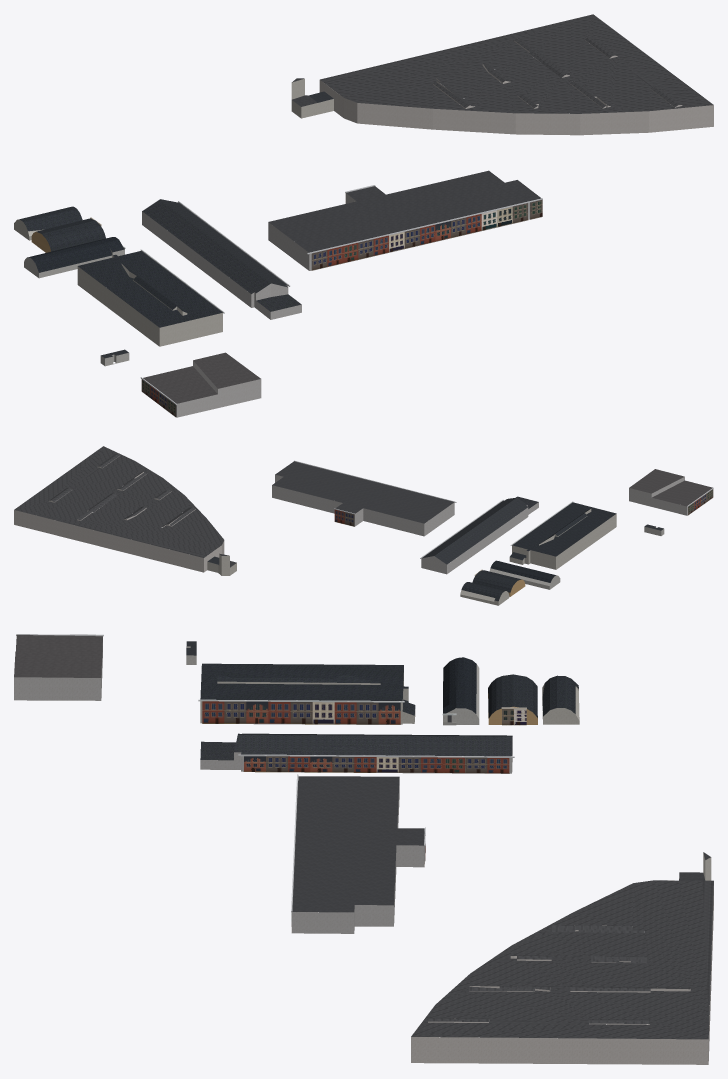
The picture shows the model from 3 angles, top to bottom: view 1: azimuth 30°, elevation 25°; view 2: azimuth 150°, elevation 25°; view 3: azimuth 270°, elevation 25°; orthographic projection. The views are drawn at different scales.
Parts seen in each view (by area): view 1: bldg_6004321672_roof, bldg_6004321651_roof, bldg_6004321672, bldg_6004321621_roof, bldg_6008399626_roof, bldg_6004321651_facade1, bldg_6004321621, bldg_6004321615_roof, bldg_6008399626, bldg_6004321615, bldg_6004321619_roof, bldg_6000001043_roof (+2 smaller); view 2: bldg_6004321672_roof, bldg_6004321651_roof, bldg_6004321672, bldg_6004321621_roof, bldg_6004321651, bldg_6008399626_roof, bldg_6004321621, bldg_6004321615_roof, bldg_6008399626, bldg_6004321615, bldg_6000001043_roof, bldg_6004321619_roof (+6 smaller); view 3: bldg_6004321672_roof, bldg_6004321651_roof, bldg_6004321672, bldg_6004321621_roof, bldg_6008399626_roof, bldg_6004321621_facade1, bldg_6008399626_facade0, bldg_6004321615_roof, bldg_6004321651, bldg_6004321615, bldg_6004321619_roof, bldg_6000001043_roof (+3 smaller).
Part boxes in pixels (box(x1,y1,x2,y2)): bldg_6004321672_roof: box(320, 14, 713, 113); bldg_6004321651_roof: box(269, 170, 541, 252); bldg_6004321672: box(319, 40, 713, 135); bldg_6004321621_roof: box(78, 251, 222, 327); bldg_6008399626_roof: box(142, 199, 301, 311); bldg_6004321651_facade1: box(307, 201, 532, 270); bldg_6004321621: box(77, 255, 222, 346); bldg_6004321615_roof: box(143, 352, 260, 403); bldg_6008399626: box(142, 211, 301, 319); bldg_6004321615: box(176, 361, 261, 417); bldg_6004321619_roof: box(27, 237, 124, 272); bldg_6000001043_roof: box(36, 218, 105, 251); bldg_6004321672_roof: box(14, 446, 224, 557); bldg_6004321651_roof: box(272, 461, 454, 523); bldg_6004321672: box(14, 456, 224, 572); bldg_6004321621_roof: box(510, 502, 616, 560); bldg_6004321651: box(272, 474, 454, 536); bldg_6008399626_roof: box(422, 496, 538, 564); bldg_6004321621: box(509, 509, 616, 569); bldg_6004321615_roof: box(629, 469, 712, 506); bldg_6008399626: box(421, 502, 538, 574); bldg_6004321615: box(629, 476, 687, 515); bldg_6000001043_roof: box(472, 570, 521, 592); bldg_6004321619_roof: box(490, 560, 556, 582); bldg_6004321672_roof: box(411, 880, 713, 1039); bldg_6004321651_roof: box(292, 776, 424, 912); bldg_6004321672: box(411, 880, 713, 1064); bldg_6004321621_roof: box(200, 663, 415, 715); bldg_6008399626_roof: box(200, 733, 512, 760); bldg_6004321621_facade1: box(198, 699, 404, 724); bldg_6008399626_facade0: box(238, 754, 514, 773); bldg_6004321615_roof: box(14, 635, 102, 677); bldg_6004321651: box(292, 778, 424, 933); bldg_6004321615: box(14, 642, 102, 700); bldg_6004321619_roof: box(443, 657, 476, 713); bldg_6000001043_roof: box(488, 674, 537, 718).
Bounding box in the file's own units: 291 × 11.32 × 208.
22 materials, 13 textured.
